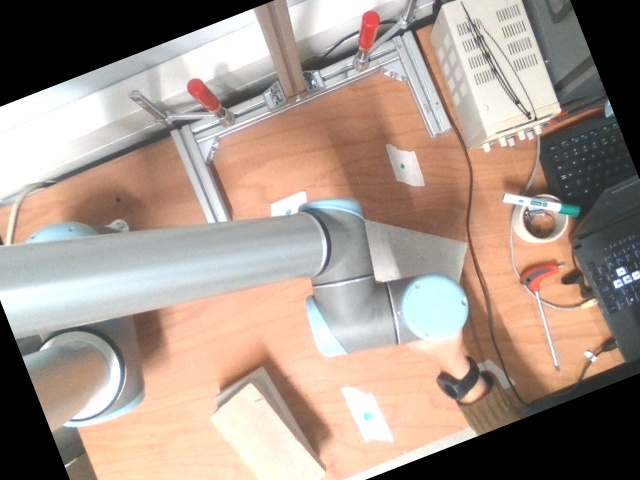brick: (212, 385, 325, 479)
